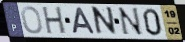0: (142, 8, 164, 37)
A: (71, 7, 97, 36)
H: (42, 6, 67, 36)
N: (117, 7, 145, 37), (92, 6, 119, 37)
O: (20, 5, 44, 35)
